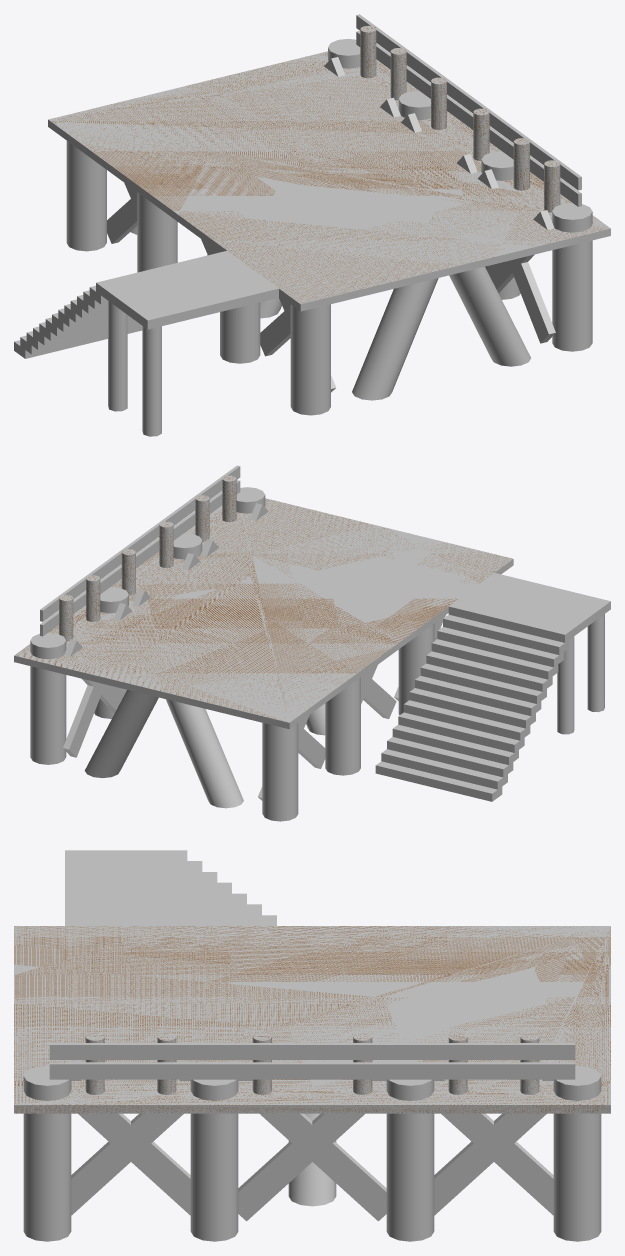
The model's file is Wood platform stairs.fbx.
The picture shows the model from 3 angles, top to bottom: view 1: azimuth 30°, elevation 25°; view 2: azimuth 150°, elevation 25°; view 3: azimuth 270°, elevation 25°; orthographic projection. The views are drawn at different scales.
Parts seen in each view (by area): view 1: instance_0.006, instance_9, instance_0.004, instance_0.011, instance_0.005, instance_0.015, instance_0.002, instance_0.012, instance_6, instance_2, instance_0.009, instance_0.010 (+14 smaller); view 2: instance_0.006, instance_9, instance_0.003, instance_0, instance_0.002, instance_0.015, instance_0.001, instance_0.009, instance_6, instance_3, instance_7, instance_0.010 (+13 smaller); view 3: instance_0.006, instance_9, instance_7, instance_6, instance_8, instance_0.004, instance_0.003, instance_0.008, instance_0.007, instance_3, instance_2, instance_0.013 (+6 smaller).
Part boxes in pixels (x1,y1,x2,y2): instance_0.006: (48,51,610,304); instance_9: (14,251,278,358); instance_0.004: (552,203,592,351); instance_0.011: (352,278,438,400); instance_0.005: (290,304,330,415); instance_0.015: (48,120,610,311); instance_0.002: (66,141,106,251); instance_0.012: (449,266,530,366); instance_6: (356,14,581,190); instance_2: (477,169,555,343); instance_0.009: (137,192,177,272); instance_0.010: (220,302,260,363); instance_0.006: (14,498,513,722); instance_9: (375,573,610,801); instance_0.003: (30,632,66,764); instance_0: (166,699,243,808); instance_0.002: (262,723,298,821); instance_0.015: (14,559,513,729); instance_0.001: (84,690,158,778); instance_0.009: (325,677,360,775); instance_6: (40,465,240,621); instance_3: (63,603,132,757); instance_7: (40,480,240,636); instance_0.010: (398,623,434,715); instance_0.006: (14,926,610,1113); instance_9: (65,850,276,925); instance_7: (49,1062,575,1079); instance_6: (49,1043,575,1059); instance_8: (238,1061,386,1221); instance_0.004: (23,1065,71,1241); instance_0.003: (553,1065,601,1241); instance_0.008: (190,1079,238,1241); instance_0.007: (386,1079,434,1241); instance_3: (427,1061,560,1215); instance_2: (64,1061,197,1215); instance_0.013: (288,1113,336,1206).
Bounding box in the file's own units: 1010 × 380 × 1000.
